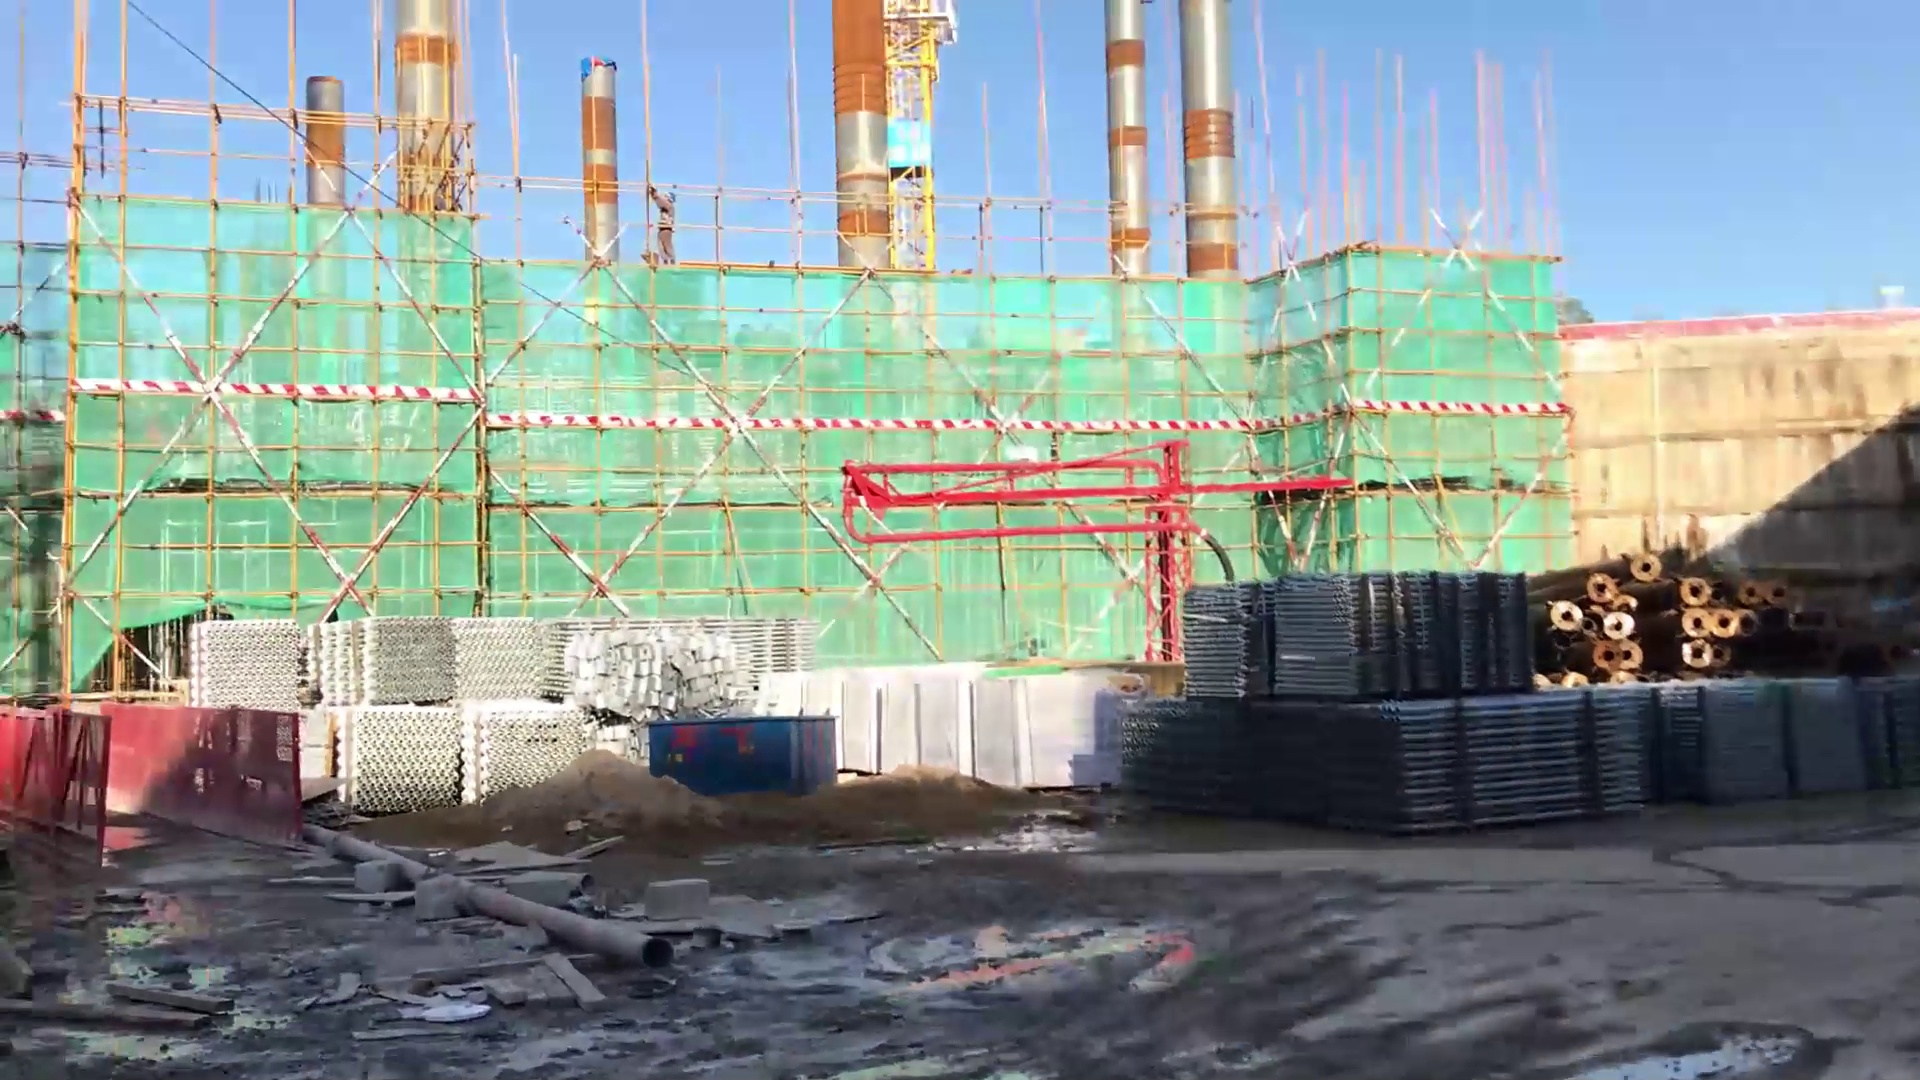hopper: (647, 704, 832, 811)
scaffold: (1398, 690, 1660, 829), (171, 607, 535, 698), (1270, 570, 1443, 695), (1247, 702, 1399, 833), (1647, 676, 1791, 808), (319, 691, 471, 807), (1424, 575, 1544, 694), (1779, 671, 1875, 790), (472, 702, 584, 798), (1174, 585, 1265, 698)
